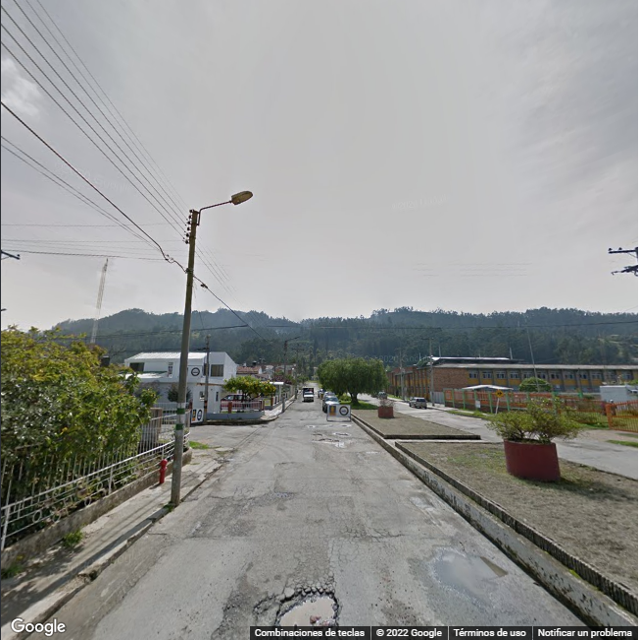D10: (324, 532, 405, 545)
D40: (267, 583, 346, 630)
